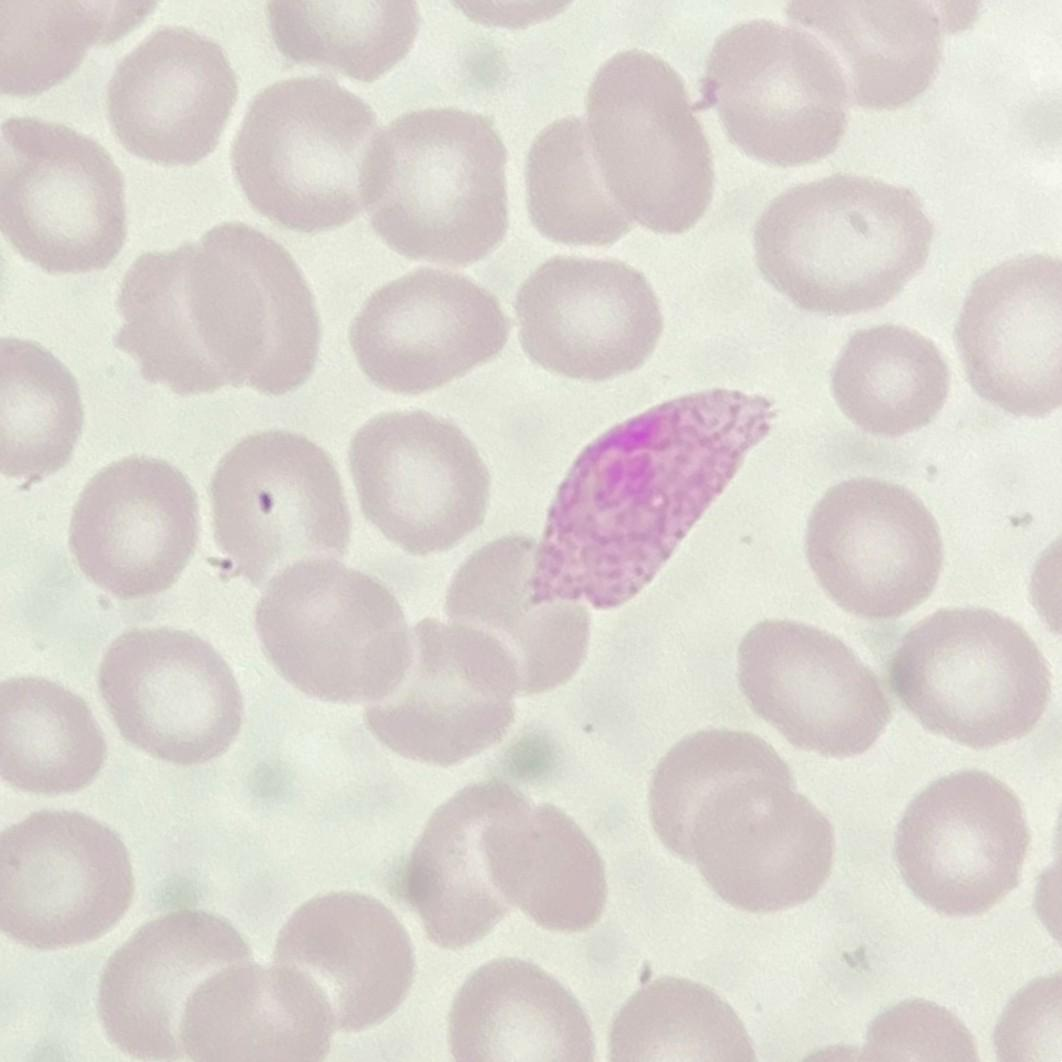Infected: (526, 388, 783, 614)
Uninfected: (588, 44, 719, 235), (180, 220, 324, 393), (752, 176, 930, 313), (404, 778, 543, 953), (96, 908, 253, 1062), (232, 83, 396, 228), (366, 114, 517, 268), (886, 604, 1047, 745), (120, 244, 269, 396), (348, 266, 516, 398), (362, 620, 516, 764), (254, 560, 408, 702), (448, 540, 589, 694), (208, 428, 352, 575), (272, 888, 416, 1033), (348, 412, 495, 553), (738, 620, 887, 758), (712, 16, 850, 164), (892, 770, 1029, 918), (0, 116, 125, 275), (692, 774, 834, 913), (648, 730, 791, 868), (104, 628, 245, 766), (804, 478, 940, 619), (784, 0, 945, 115), (0, 810, 133, 948), (520, 252, 663, 379), (107, 24, 231, 169), (954, 254, 1062, 420), (70, 460, 199, 596), (520, 108, 642, 247), (480, 804, 612, 929), (448, 958, 596, 1062), (180, 966, 333, 1062), (268, 0, 420, 86), (0, 336, 87, 484), (830, 324, 949, 431), (0, 676, 104, 793)
